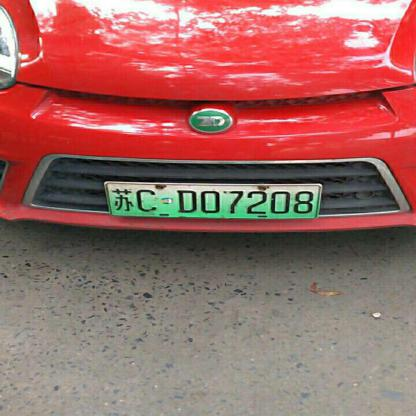lp: (106, 180, 319, 216)
